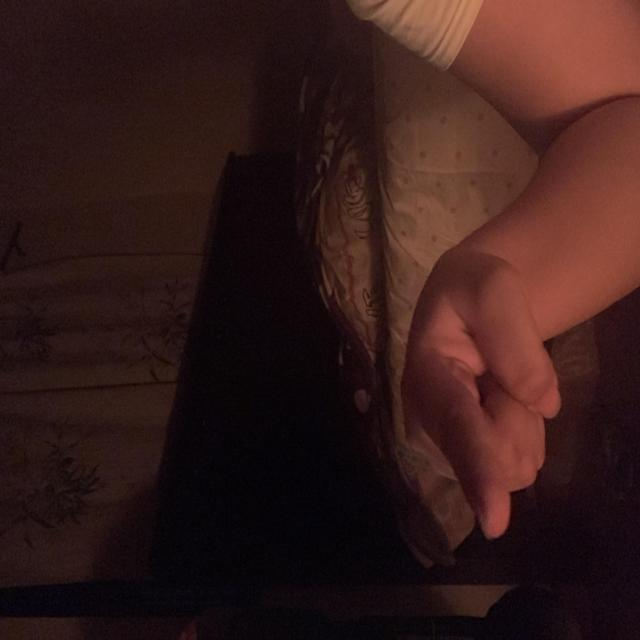Z: (250, 402, 540, 563)
